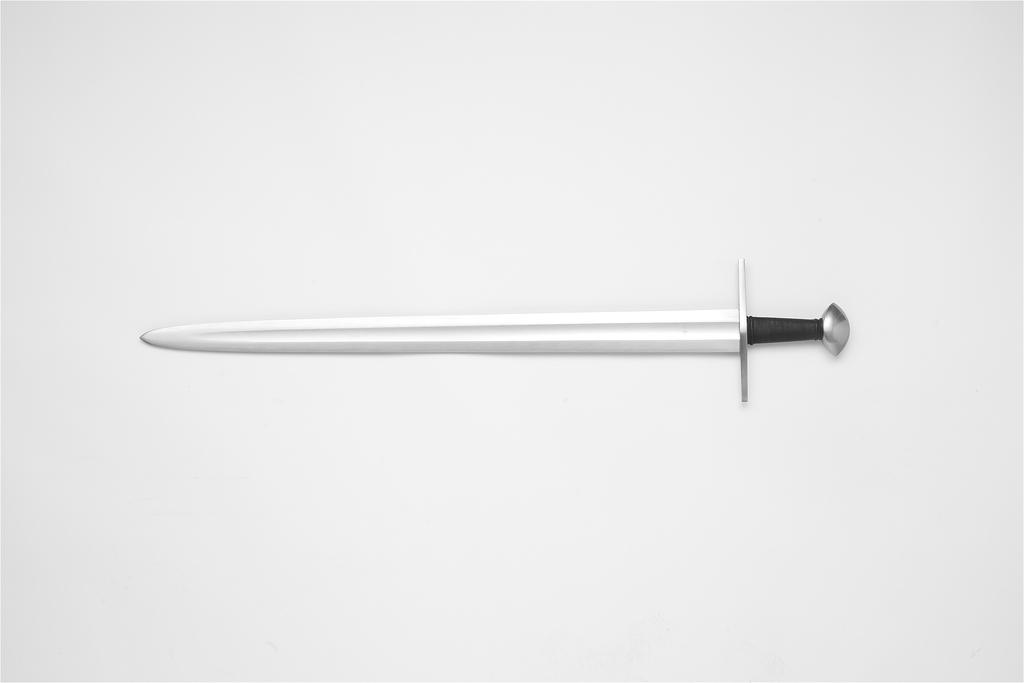Sword: (140, 259, 851, 406)
